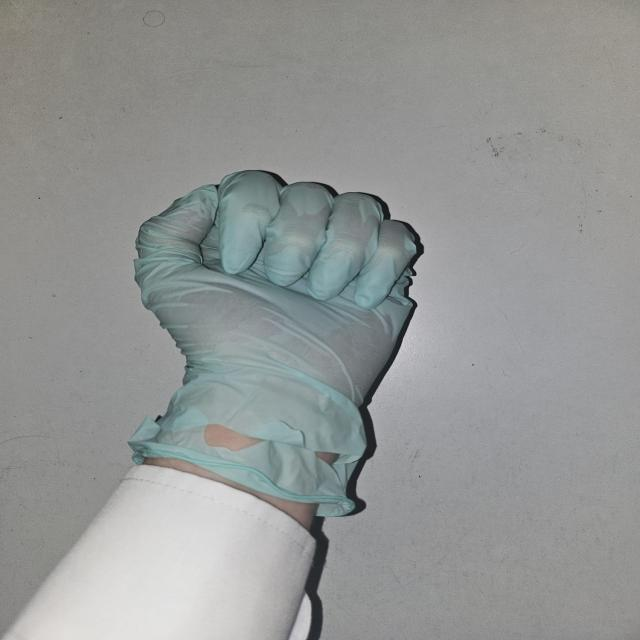gloves_damaged: (126, 166, 422, 521)
